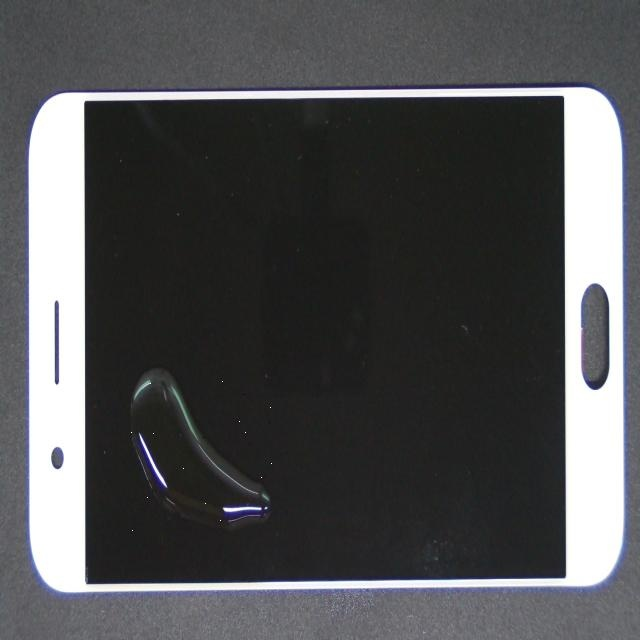oil: (94, 173, 228, 570)
